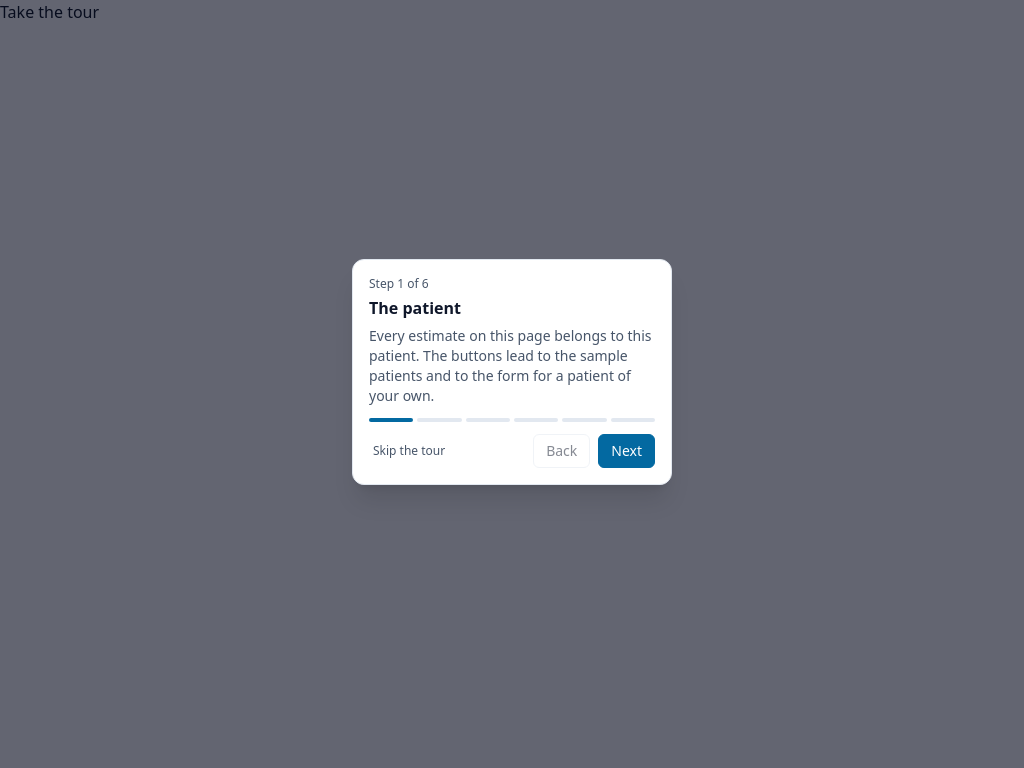
Test case: guided tour › still explains a step whose part is not on the page
What coordinates should you click on to do the following:
click the button "Next"
I would click on:
 (627, 451)
Its box is [598, 434, 655, 468].
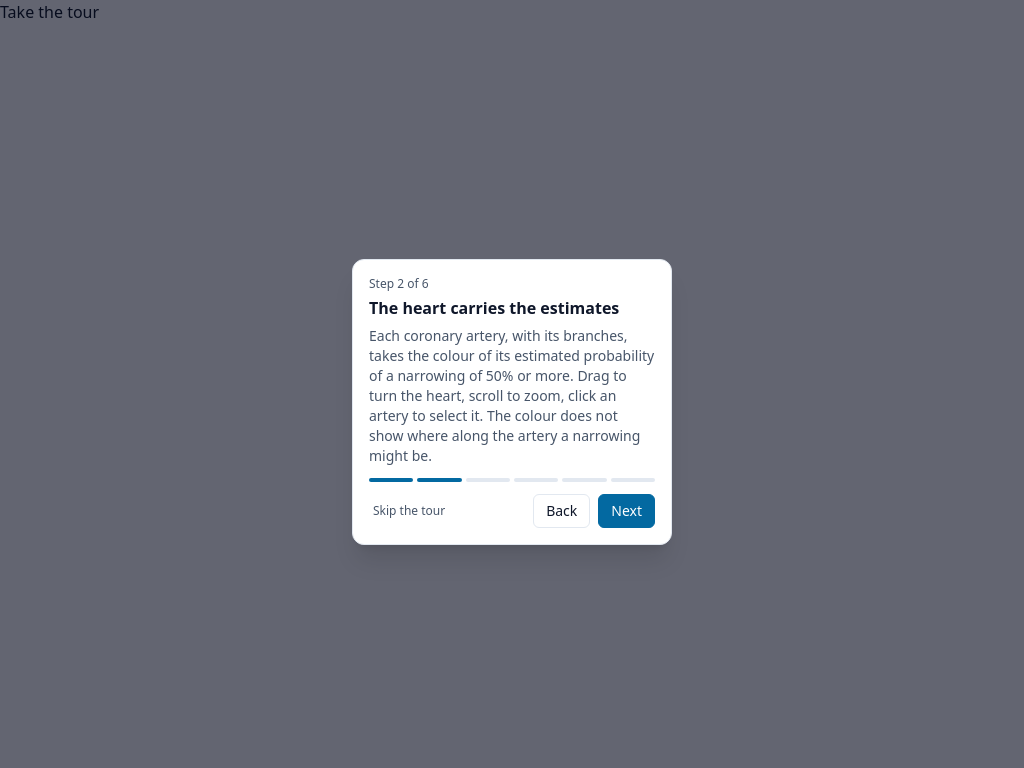
Result: the heading reads "The heart carries the estimates" at [369, 297, 619, 319]
